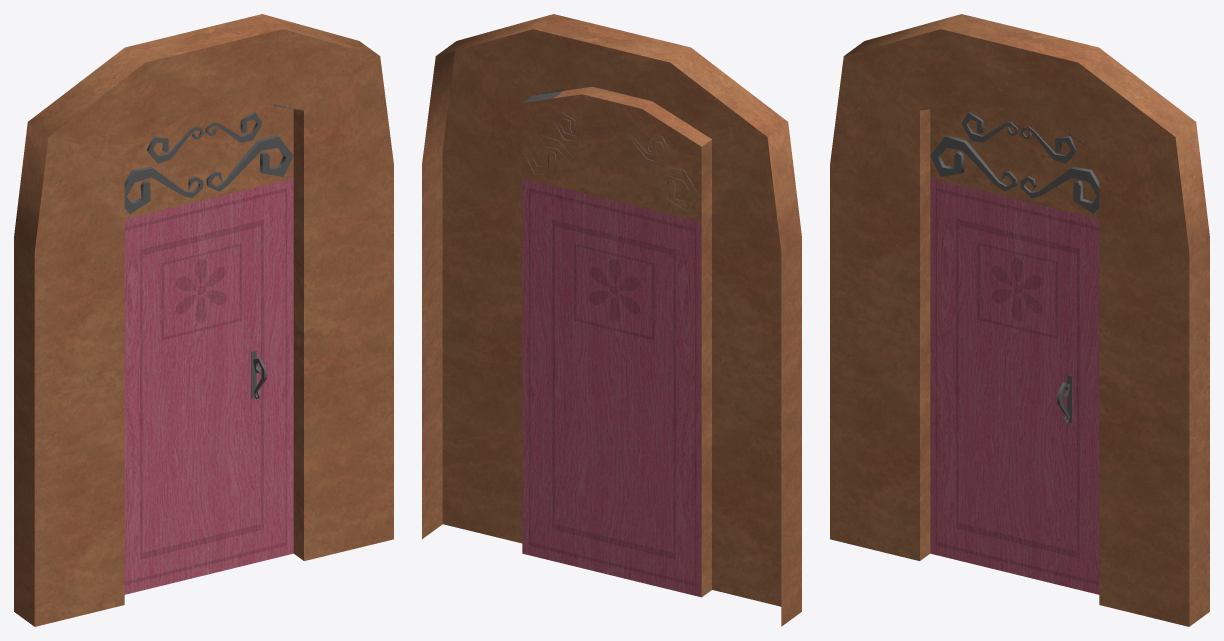
The model's file is Door3LOD.fbx.
3 views of the same model, side by side, from view 1: azimuth 30°, elevation 25°; view 2: azimuth 150°, elevation 25°; view 3: azimuth 330°, elevation 25° (orthographic).
Visible parts, largest first — view 1: Door3_LOD1; view 2: Door3_LOD1; view 3: Door3_LOD1.
Boxes of the visible parts, x1,y1,x2,y2 form: Door3_LOD1: (14, 14, 393, 626); Door3_LOD1: (422, 14, 801, 626); Door3_LOD1: (830, 14, 1209, 626).
Bounding box in the file's own units: 200 × 286 × 21.3.
